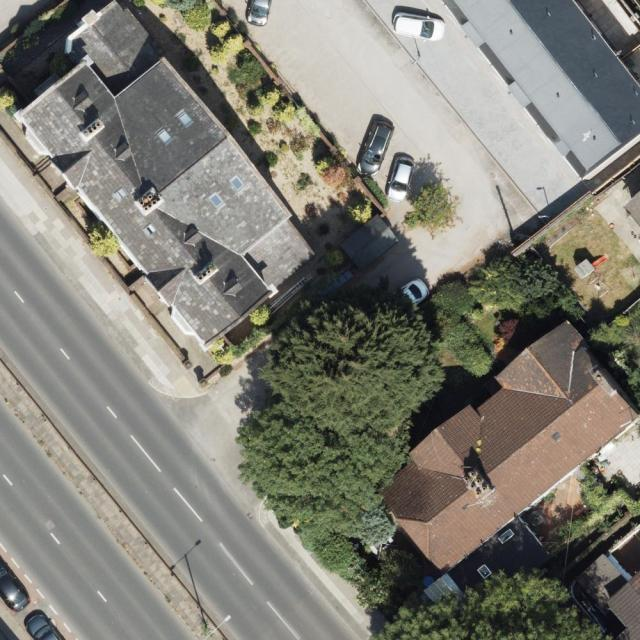roof: (18, 1, 296, 356), (373, 318, 640, 615), (607, 567, 640, 640)
skylight: (173, 102, 196, 133), (153, 122, 176, 146), (137, 220, 160, 240), (227, 173, 248, 193), (204, 192, 226, 211), (110, 183, 129, 203)
